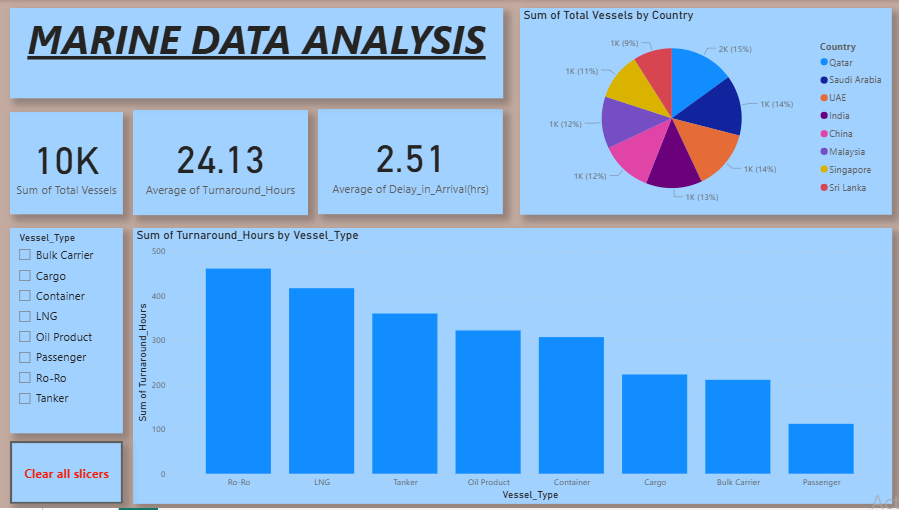

The dashboard page shown, as its layout file describes it:
{"tool":"powerbi","page":{"name":"Page 1","canvas":[1280,720],"ordinal":0},"visuals":[{"type":"card","fields":{"Values":["Sum(port_vessel_data_mumbai_100 (2).Total Vessels)"]},"box":[17,158.7,160.2,144.6],"z":0},{"type":"card","fields":{"Values":["Avg(port_vessel_data_mumbai_100 (2).Turnaround_Hours)"]},"box":[191.3,155.9,248,148.8],"z":1000},{"type":"card","fields":{"Values":["Avg(port_vessel_data_mumbai_100 (2).Delay_in_Arrival(hrs))"]},"box":[453.5,154.5,262.2,148.8],"z":2000},{"type":"pieChart","fields":{"Category":["port_vessel_data_mumbai_100 (2).Country"],"Y":["Sum(port_vessel_data_mumbai_100 (2).Total Vessels)"]},"box":[739.8,11.3,527.2,293.4],"z":3000},{"type":"slicer","fields":{"Values":["port_vessel_data_mumbai_100 (2).Vessel_Type"]},"box":[17,323.1,160.2,290.6],"z":4000},{"type":"textbox","box":[17,11.3,698.7,127.6],"z":5000},{"type":"clusteredColumnChart","fields":{"Y":["Sum(port_vessel_data_mumbai_100 (2).Turnaround_Hours)"],"Category":["port_vessel_data_mumbai_100 (2).Vessel_Type"]},"box":[191.3,323.1,1075.7,391.2],"z":6000},{"type":"actionButton","box":[17,625,160.2,89.3],"z":7000}]}

Visuals, with their boxes in screenshot pixels (x1, y1, x2, y2), scaled from the page's 1280x720 canvas onto the 899x510 screenshot:
card - Sum(port_vessel_data_mumbai_100 (2).Total Vessels): [12, 112, 124, 215]
card - Avg(port_vessel_data_mumbai_100 (2).Turnaround_Hours): [134, 110, 309, 216]
card - Avg(port_vessel_data_mumbai_100 (2).Delay_in_Arrival(hrs)): [319, 109, 503, 215]
pieChart - port_vessel_data_mumbai_100 (2).Country x Sum(port_vessel_data_mumbai_100 (2).Total Vessels): [520, 8, 890, 216]
slicer - port_vessel_data_mumbai_100 (2).Vessel_Type: [12, 229, 124, 435]
textbox: [12, 8, 503, 98]
clusteredColumnChart - Sum(port_vessel_data_mumbai_100 (2).Turnaround_Hours) x port_vessel_data_mumbai_100 (2).Vessel_Type: [134, 229, 890, 506]
actionButton: [12, 443, 124, 506]
